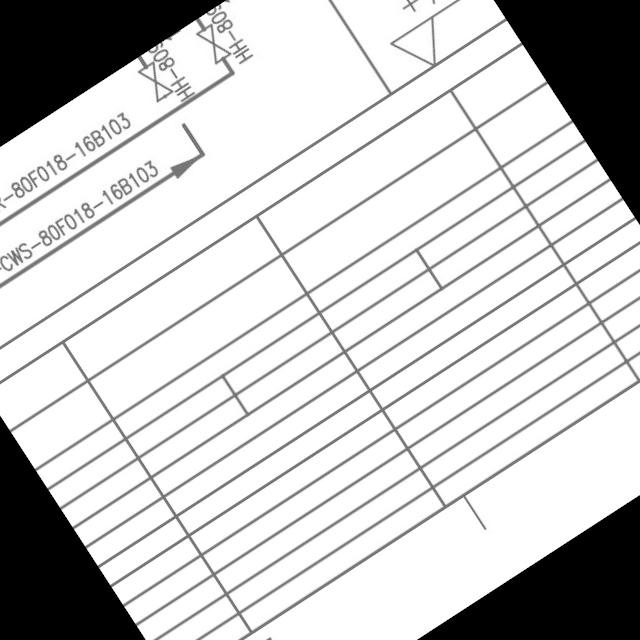GV: (192, 20, 235, 68), (134, 59, 176, 104)
